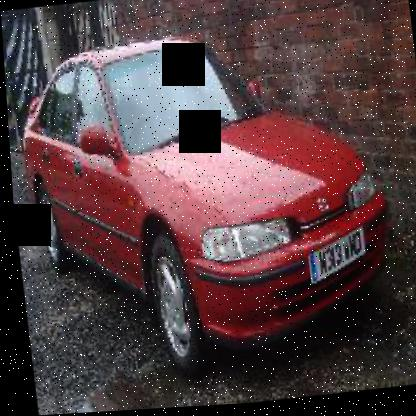not_emergency: (3, 7, 415, 411)
